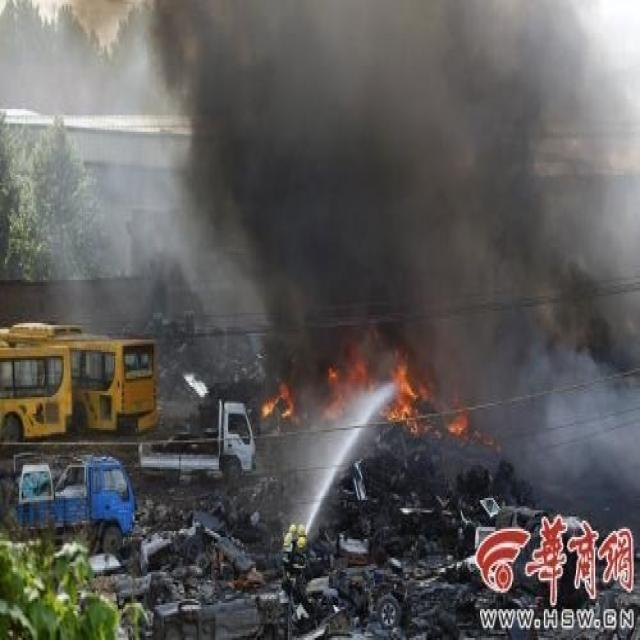Fire: (383, 362, 421, 436), (261, 380, 296, 418)
Smoke: (1, 2, 640, 510)
